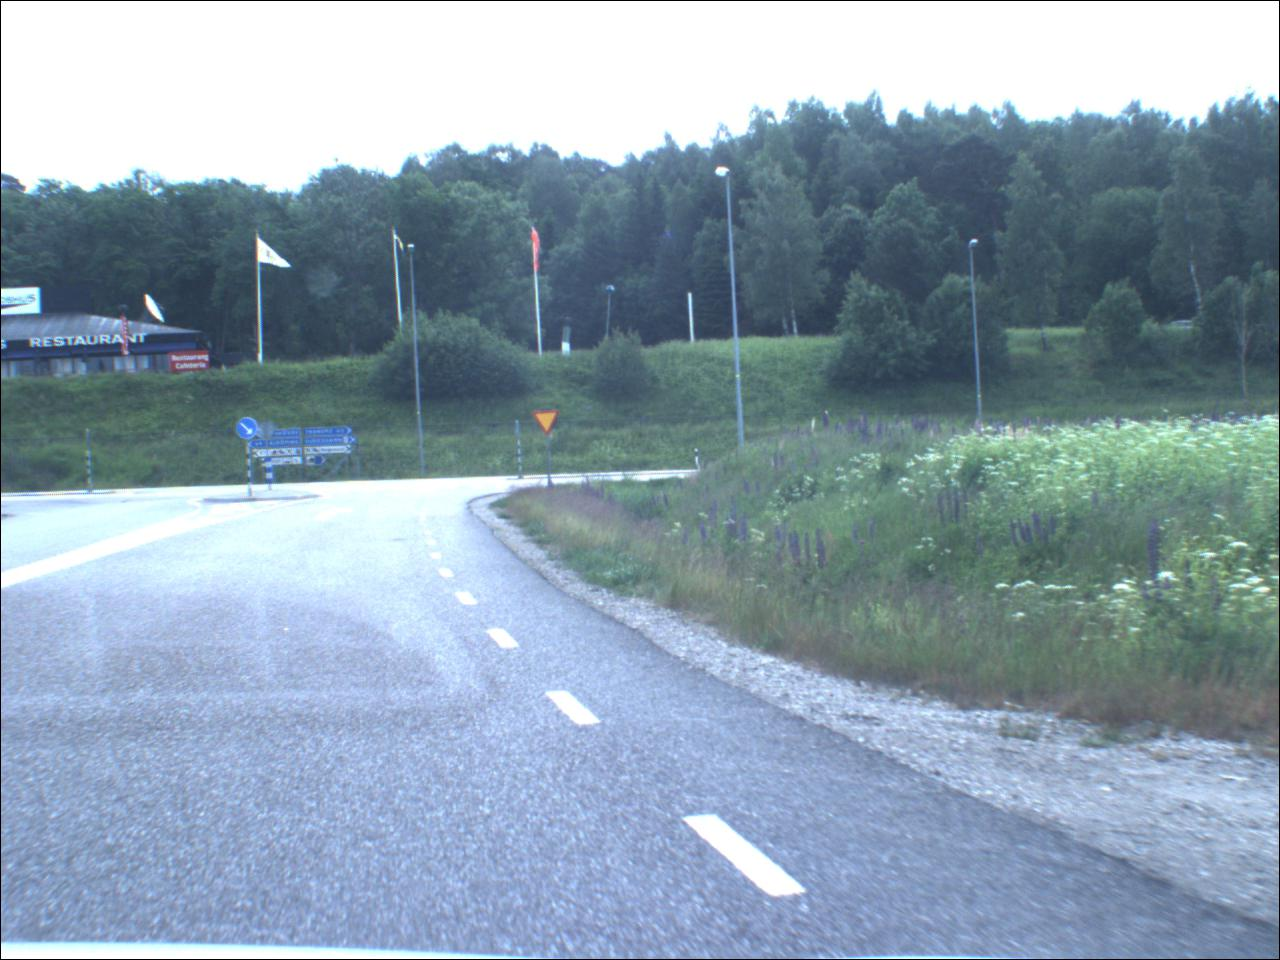GIVE_WAY: (534, 411, 563, 437)
PASS_RIGHT_SIDE: (237, 417, 261, 443)
